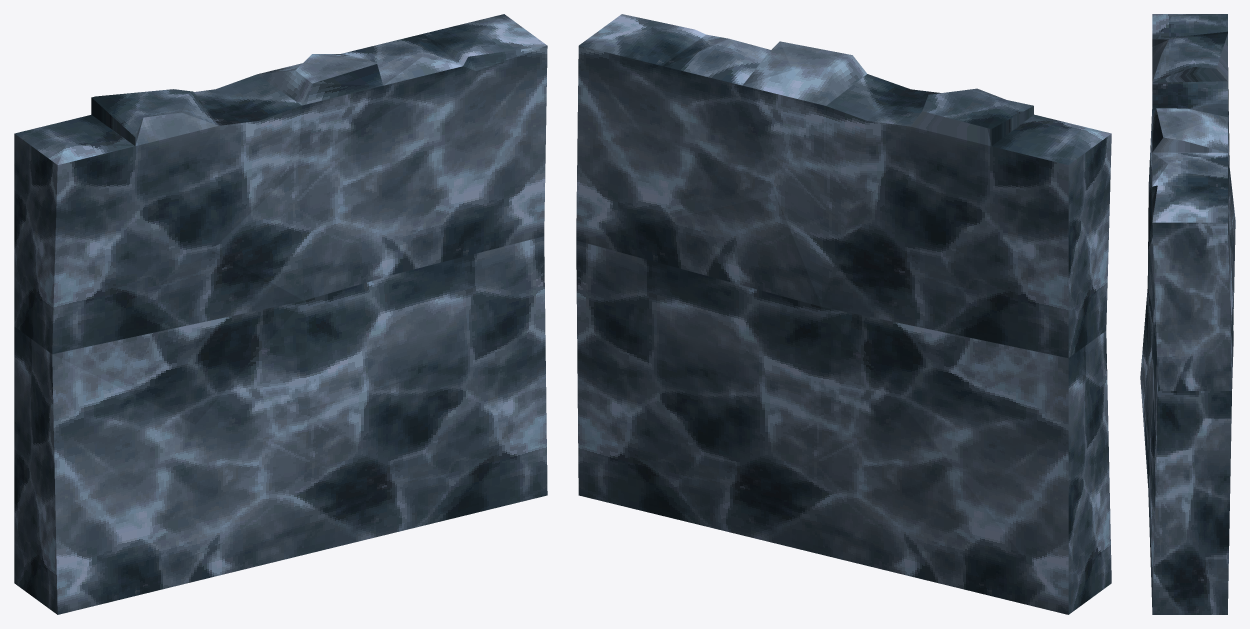
The model's file is item_castle_wall_ice.glb.
3 renders of one model, left to right at view 1: azimuth 30°, elevation 25°; view 2: azimuth 150°, elevation 25°; view 3: azimuth 270°, elevation 25°, orthographic. The views are drawn at different scales.
Parts seen in each view (by area): view 1: Wall; view 2: Wall; view 3: Wall.
Part boxes in pixels (x1,y1,x2,y2): Wall: (14,14,547,614); Wall: (576,14,1111,614); Wall: (1140,14,1235,614).
Bounding box in the file's own units: 1.93 × 1.75 × 0.372.
1 material, 1 textured.
